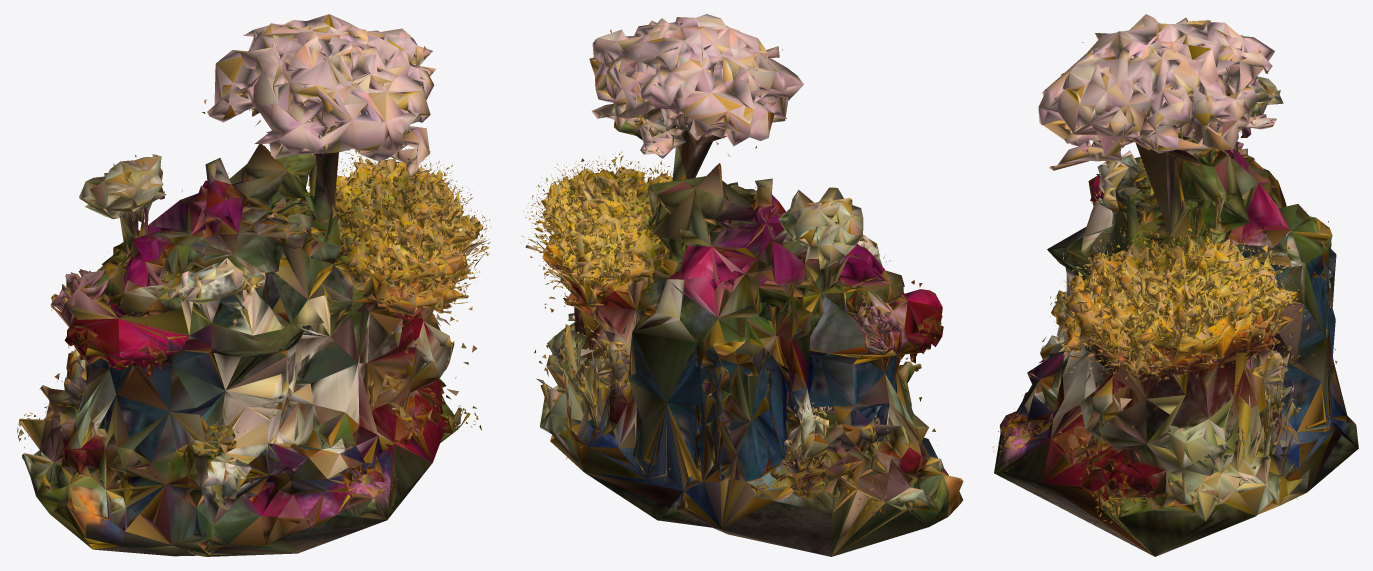
File: Floating_Isle_of_Blos.glb
3 views of the same model, side by side, from view 1: azimuth 30°, elevation 25°; view 2: azimuth 150°, elevation 25°; view 3: azimuth 270°, elevation 25° (orthographic). The views are drawn at different scales.
Parts seen in each view (by area): view 1: Floating_Isle_of_Blos; view 2: Floating_Isle_of_Blos; view 3: Floating_Isle_of_Blos.
Boxes of the visible parts, x1,y1,x2,y2 form: Floating_Isle_of_Blos: (17, 14, 491, 556); Floating_Isle_of_Blos: (522, 14, 963, 556); Floating_Isle_of_Blos: (992, 14, 1358, 556).
Size of the model in its own units: 1.58 by 1.81 by 1.1.
Materials: 1 (1 with a texture image).
